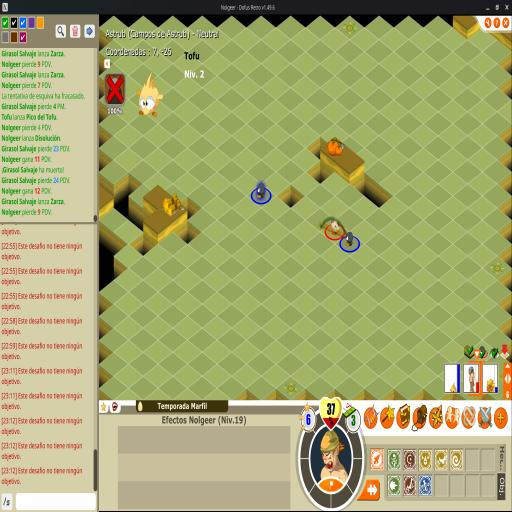Enemigos: (344, 230, 355, 248), (256, 182, 266, 200)
Personaje: (330, 218, 341, 236)
